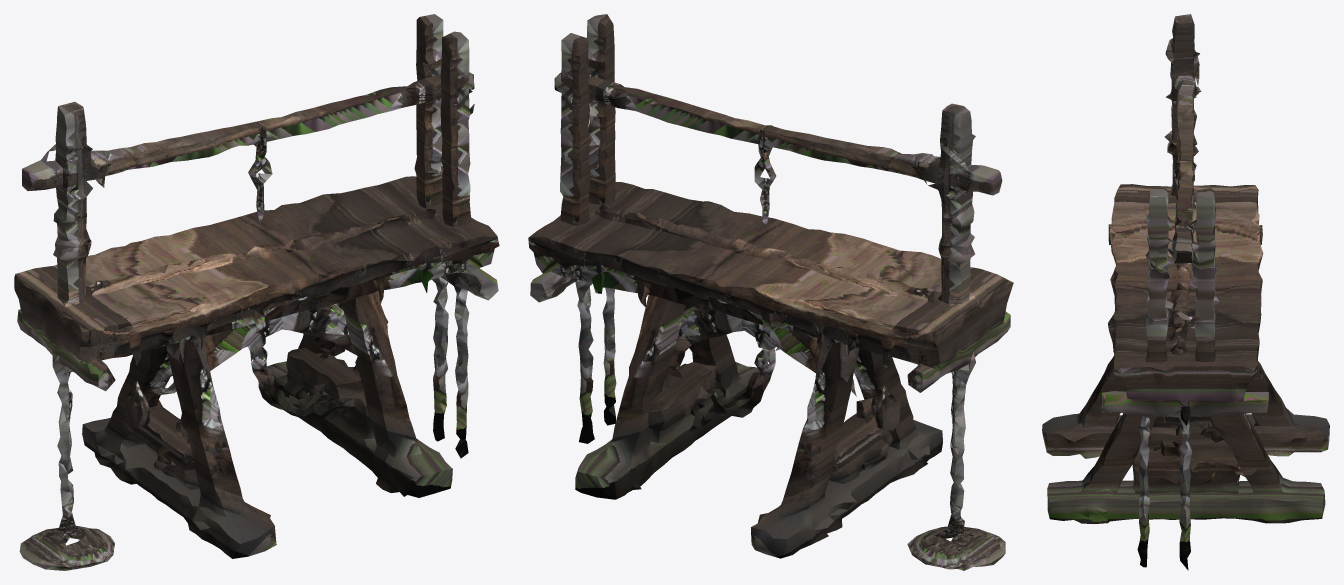
The model's file is rack.glb.
3 views of the same model, side by side, from view 1: azimuth 30°, elevation 25°; view 2: azimuth 150°, elevation 25°; view 3: azimuth 270°, elevation 25° (orthographic). The views are drawn at different scales.
Parts seen in each view (by area): view 1: geometry_0; view 2: geometry_0; view 3: geometry_0.
Boxes of the visible parts, x1,y1,x2,y2 form: geometry_0: (14,14,499,570); geometry_0: (528,14,1013,570); geometry_0: (1042,14,1329,570).
Size of the model in its own units: 1.26 by 1.2 by 0.7756.
1 material, 1 textured.
